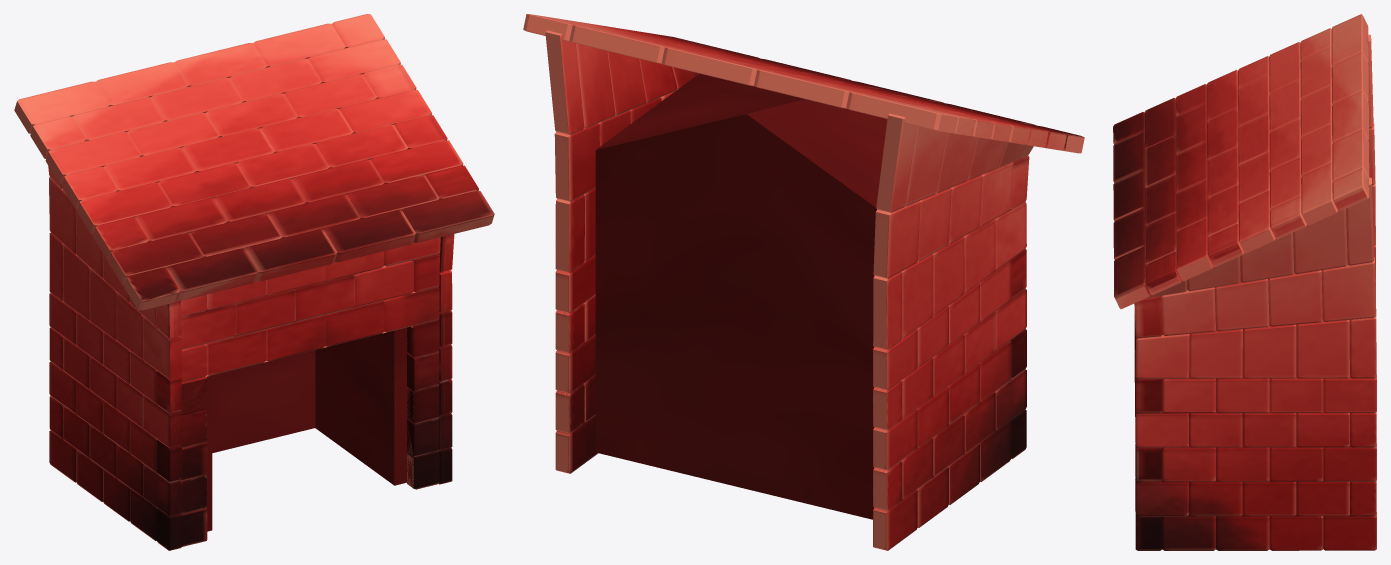
The model's file is fireplace.fbx.
3 renders of one model, left to right at view 1: azimuth 30°, elevation 25°; view 2: azimuth 150°, elevation 25°; view 3: azimuth 270°, elevation 25°, orthographic. The views are drawn at different scales.
Visible parts, largest first — view 1: Cube; view 2: Cube; view 3: Cube.
Part boxes in pixels (bbox=[...]): Cube: bbox=[14, 14, 494, 550]; Cube: bbox=[523, 14, 1084, 550]; Cube: bbox=[1113, 14, 1376, 550].
Size of the model in its own units: 823 by 838 by 528.
1 material, 1 textured.
